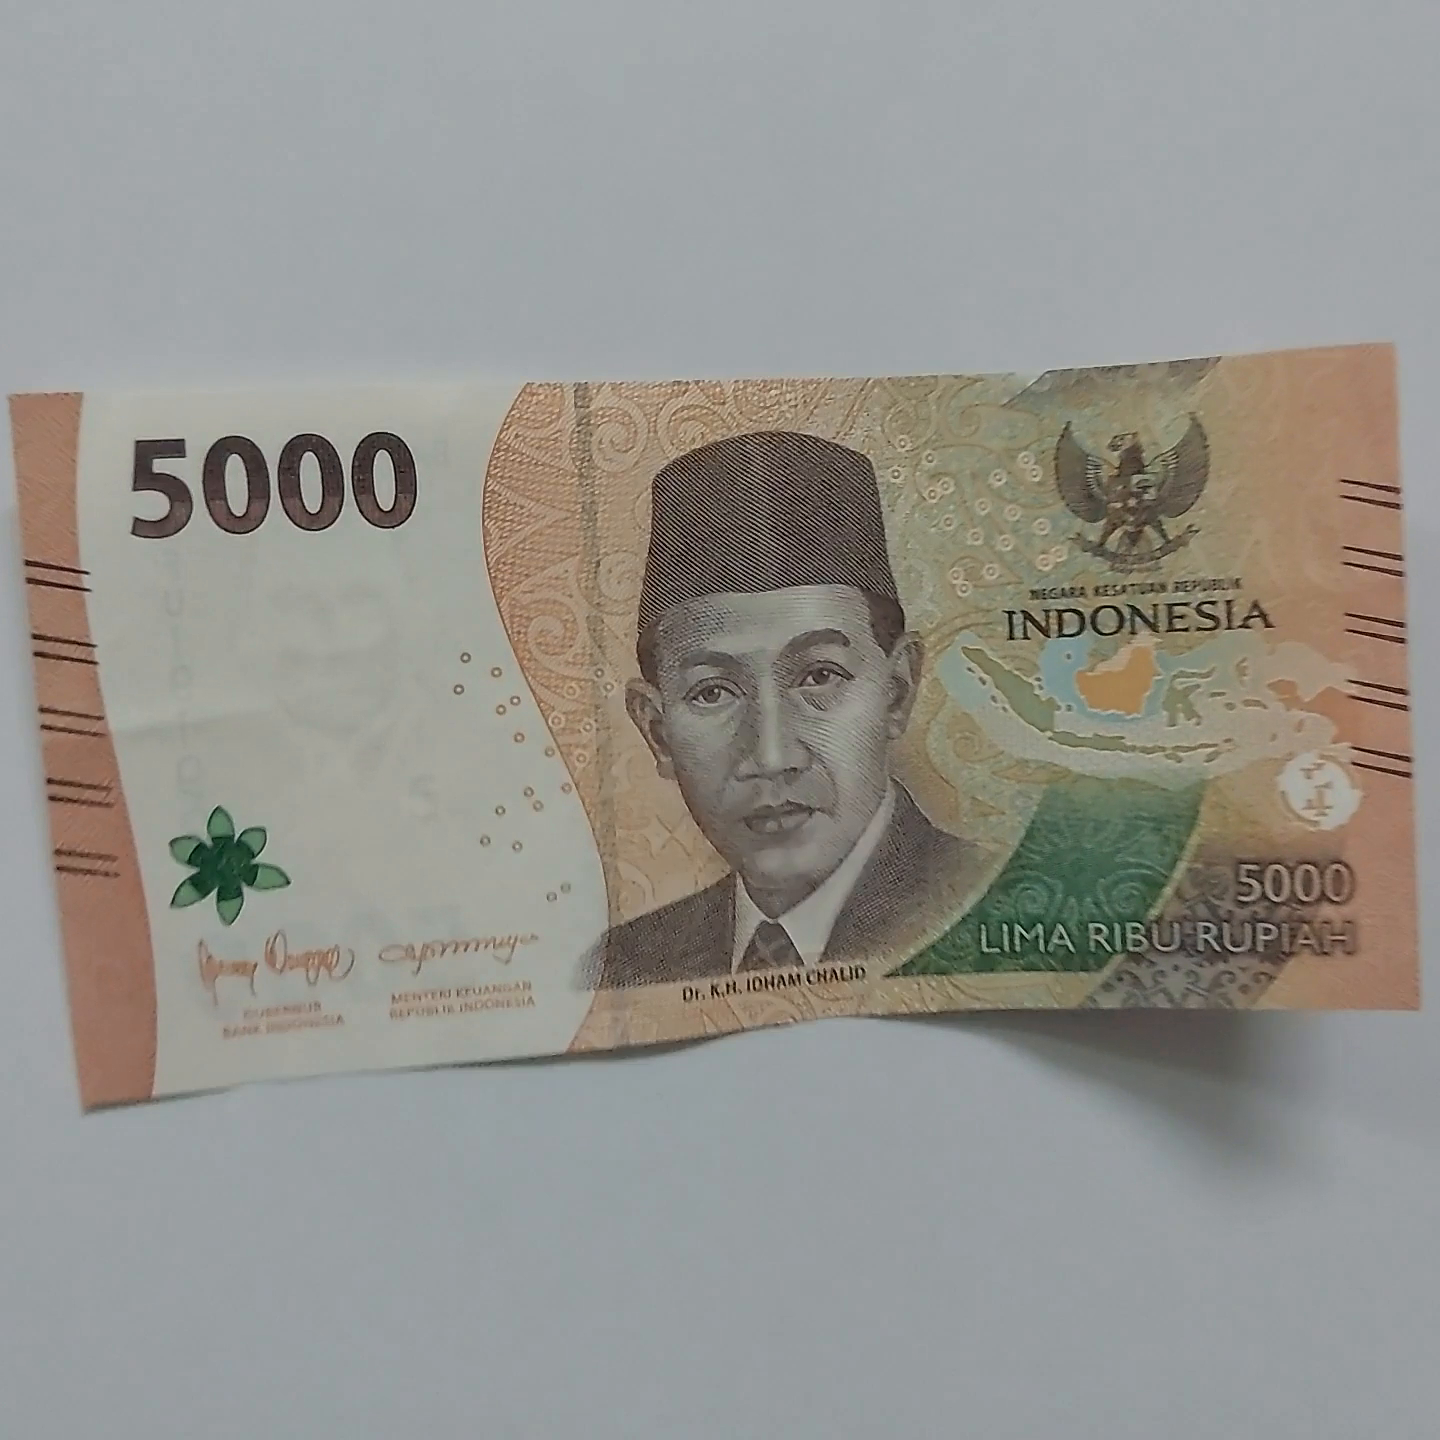5k: (0, 355, 1425, 1145)
